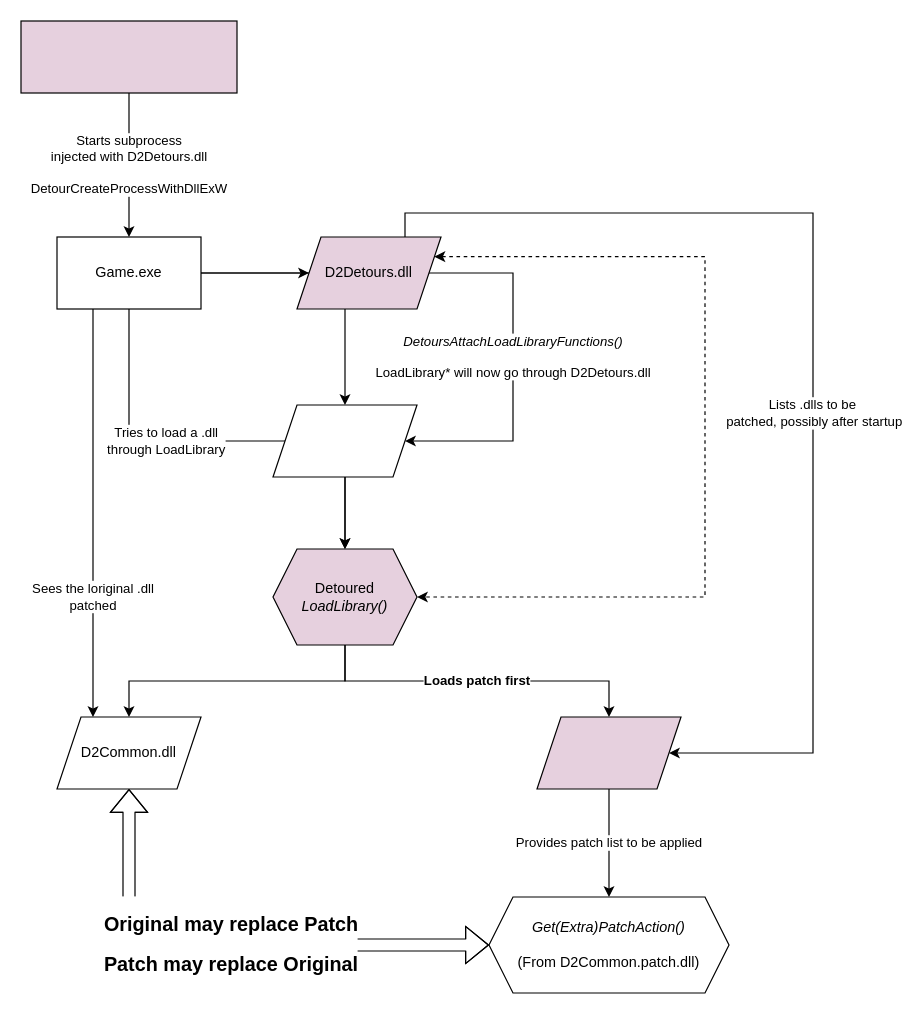
The diagram is 923 pixels wide and 1014 high, and some of its shapes have lost their labels. Each missing label, with the box of its shape:
D2.DetoursLauncher.exe: (20, 20, 237, 93)
KernelBase.dll: (272, 404, 417, 477)
Patch D2Common.dll: (536, 716, 681, 789)
